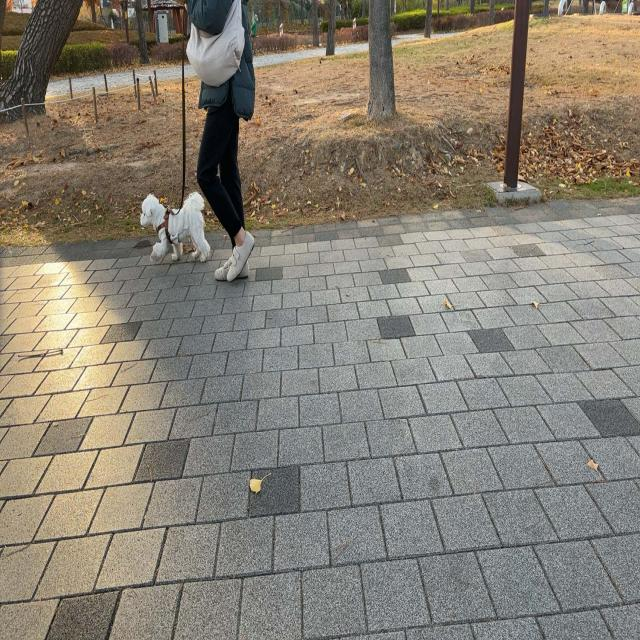Leashed_Dog: (141, 0, 218, 265)
